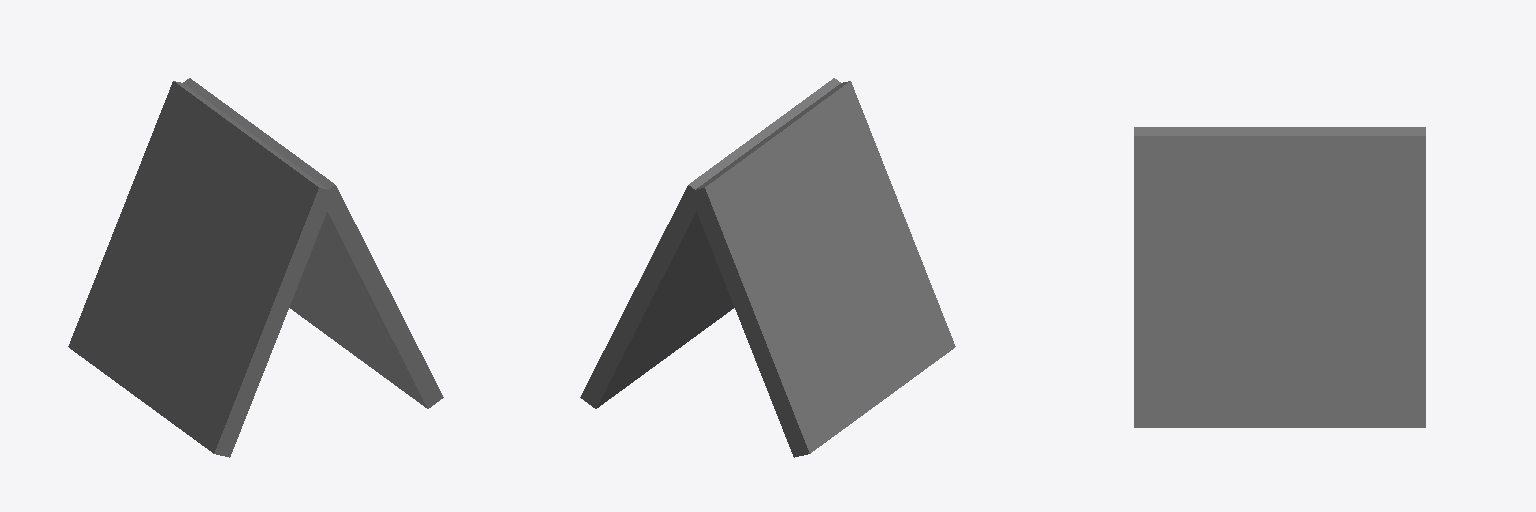
The model's file is menu.obj.
3 views of the same model, side by side, from view 1: azimuth 30°, elevation 25°; view 2: azimuth 150°, elevation 25°; view 3: azimuth 270°, elevation 25° (orthographic).
Visible parts, largest first — view 1: pCube77; view 2: pCube77; view 3: pCube77.
Part boxes in pixels (left/top/right/bottom): pCube77: left=68, top=78, right=443, bottom=457; pCube77: left=580, top=78, right=955, bottom=457; pCube77: left=1134, top=127, right=1425, bottom=427.
Bounding box in the file's own units: 3.57 × 3.69 × 3.93.